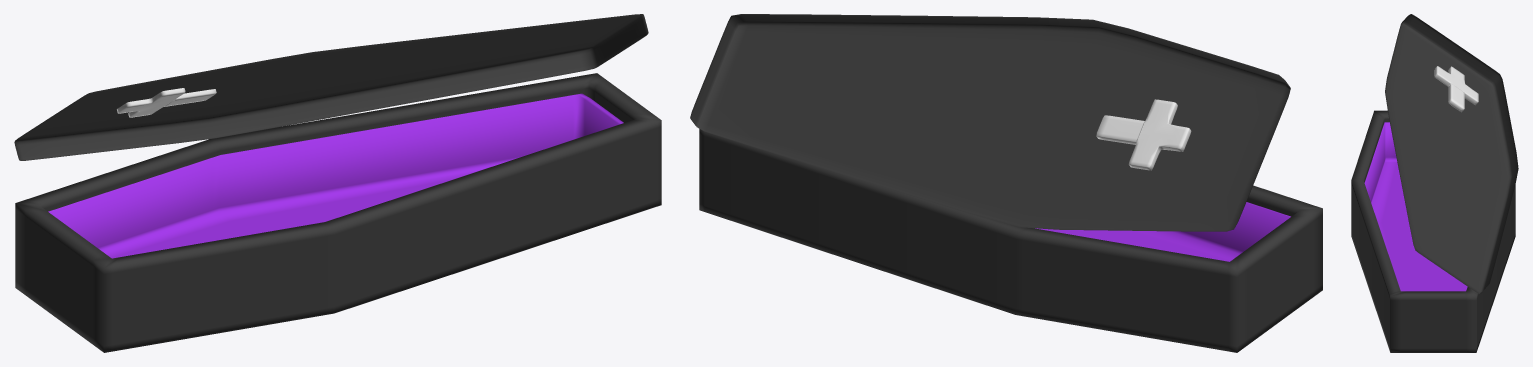
The model's file is coffin_norm.glb.
3 renders of one model, left to right at view 1: azimuth 30°, elevation 25°; view 2: azimuth 150°, elevation 25°; view 3: azimuth 270°, elevation 25°, orthographic. The views are drawn at different scales.
Visible parts, largest first — view 1: outside, insidecoffin, deckel, cross; view 2: deckel, outside, insidecoffin, cross; view 3: deckel, outside, insidecoffin, cross.
Part boxes in pixels (x1=…): outside: x1=15, y1=73, x2=661, y2=352; insidecoffin: x1=48, y1=93, x2=623, y2=258; deckel: x1=14, y1=14, x2=648, y2=160; cross: x1=117, y1=88, x2=216, y2=117; deckel: x1=690, y1=14, x2=1290, y2=231; outside: x1=699, y1=129, x2=1322, y2=352; insidecoffin: x1=1035, y1=202, x2=1290, y2=261; cross: x1=1096, y1=99, x2=1191, y2=170; deckel: x1=1385, y1=14, x2=1518, y2=293; outside: x1=1351, y1=110, x2=1515, y2=352; insidecoffin: x1=1364, y1=122, x2=1467, y2=291; cross: x1=1434, y1=66, x2=1478, y2=111.
Size of the model in its own units: 6.29 by 2.48 by 2.37.
